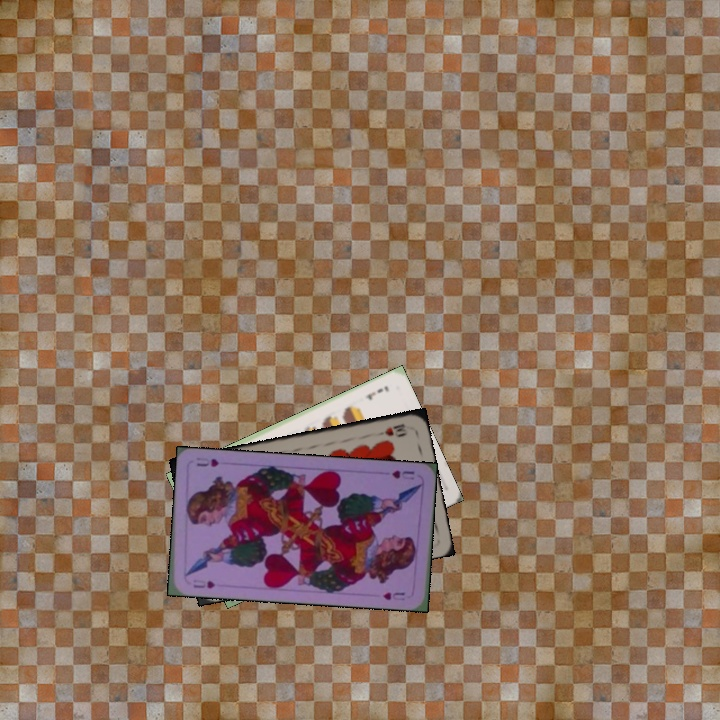E7: (362, 382, 392, 403)
H10: (381, 420, 409, 438)
HU: (388, 466, 417, 482), (189, 575, 217, 591)
